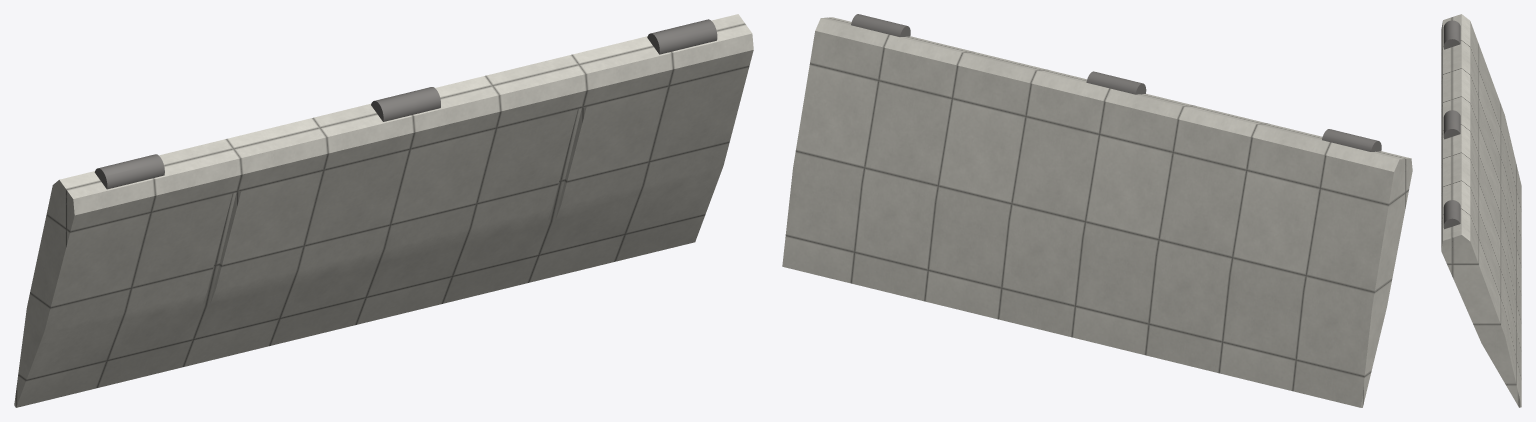
The model's file is ax_aero_23_cse_elevon_s_defl_pos.glb.
3 renders of one model, left to right at view 1: azimuth 30°, elevation 25°; view 2: azimuth 150°, elevation 25°; view 3: azimuth 270°, elevation 25°, orthographic. The views are drawn at different scales.
Visible parts, largest first — view 1: surface, hinge_fittings; view 2: surface, hinge_fittings; view 3: surface, hinge_fittings.
Part boxes in pixels (x1,y1,x2,y2): surface: (14,14,753,407); hinge_fittings: (94,19,717,189); surface: (782,17,1412,407); hinge_fittings: (851,14,1381,151); surface: (1441,14,1521,407); hinge_fittings: (1443,20,1460,229).
Size of the model in its own units: 1.18 by 0.4435 by 0.1819.
Materials: 2 (2 with a texture image).
